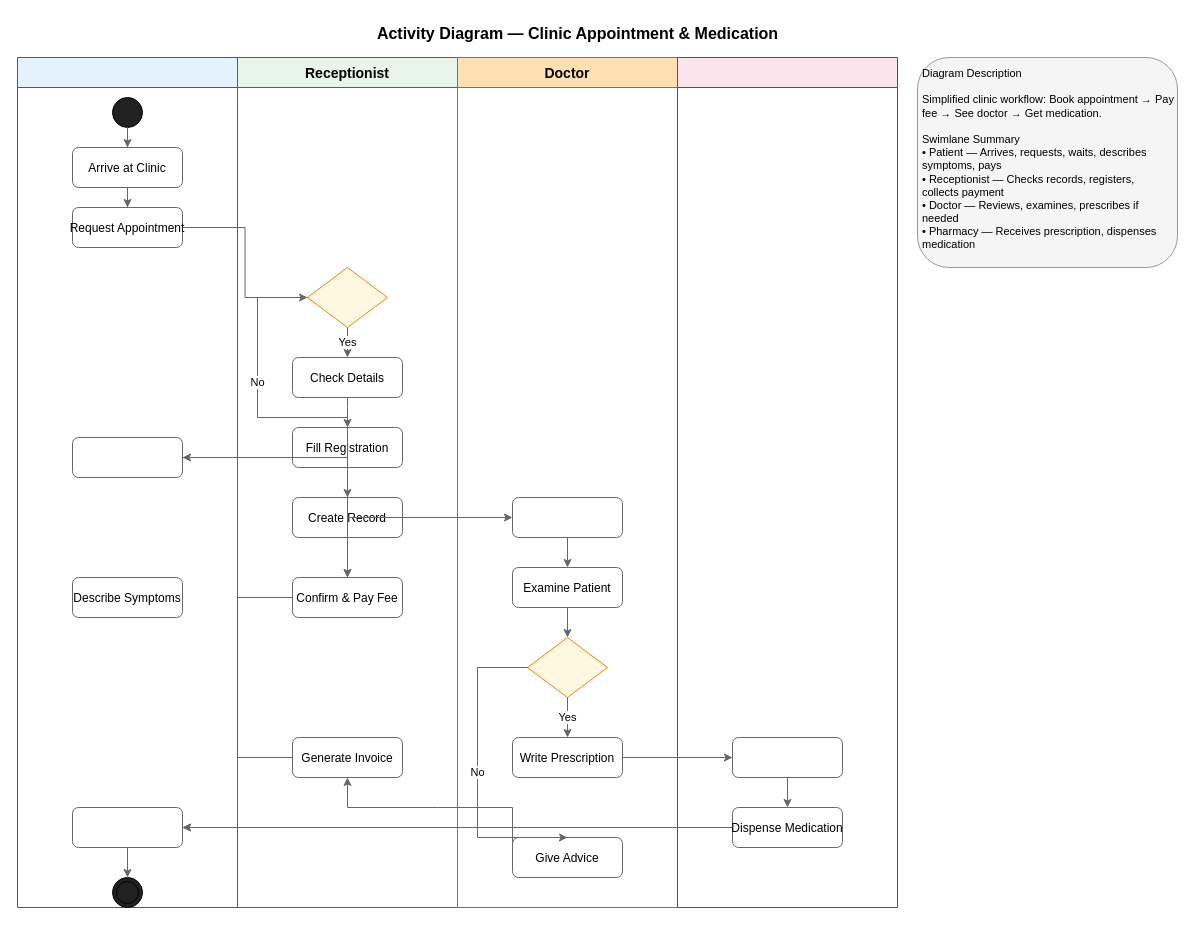
Some shapes in this 1195 by 925 pixel diagram are drawn without their labels. The box of each missing label's shape, as (x1, y1, x2, y2) in pixels:
Has Appointment?: (306, 266, 388, 328)
Need Medication?: (526, 636, 608, 698)
Patient: (16, 56, 238, 908)
Pay Bill & Leave: (72, 806, 182, 848)
Pharmacy: (676, 56, 898, 908)
Receive Prescription: (732, 736, 842, 778)
Review Record: (512, 496, 622, 538)
Wait for Doctor: (72, 436, 182, 478)
